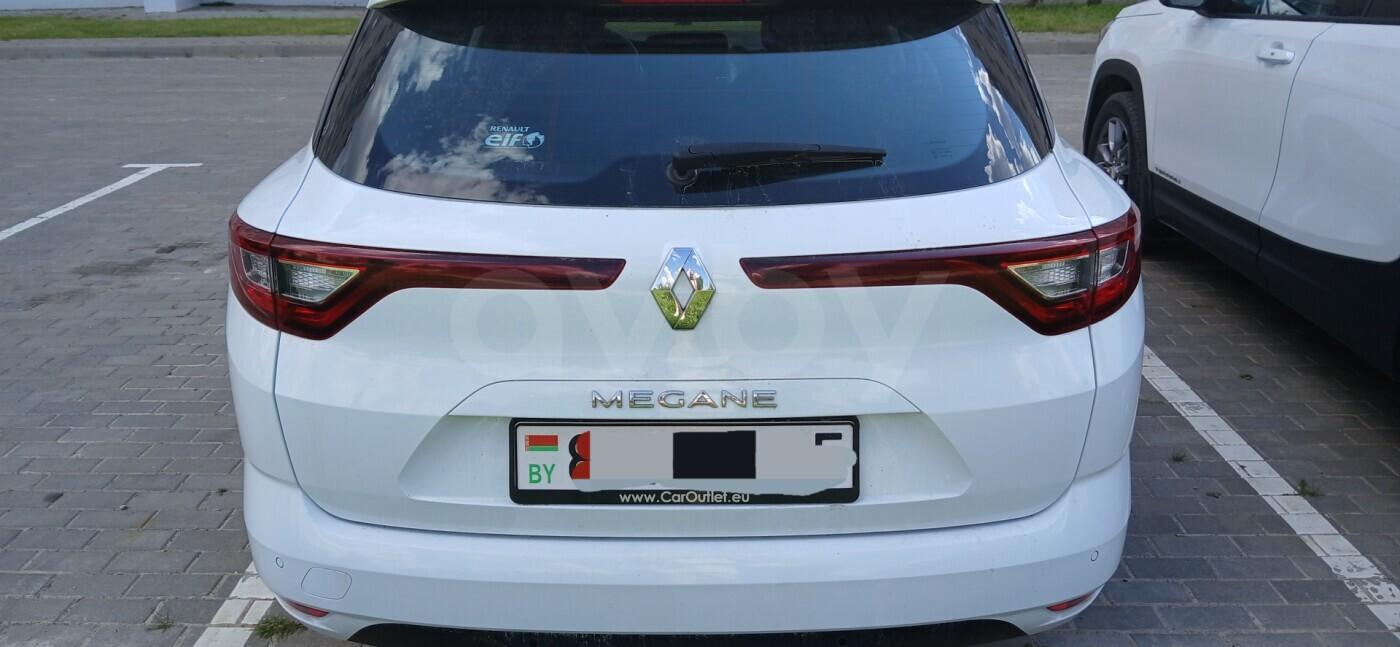Megane_2016-2020: (216, 0, 1150, 647)
